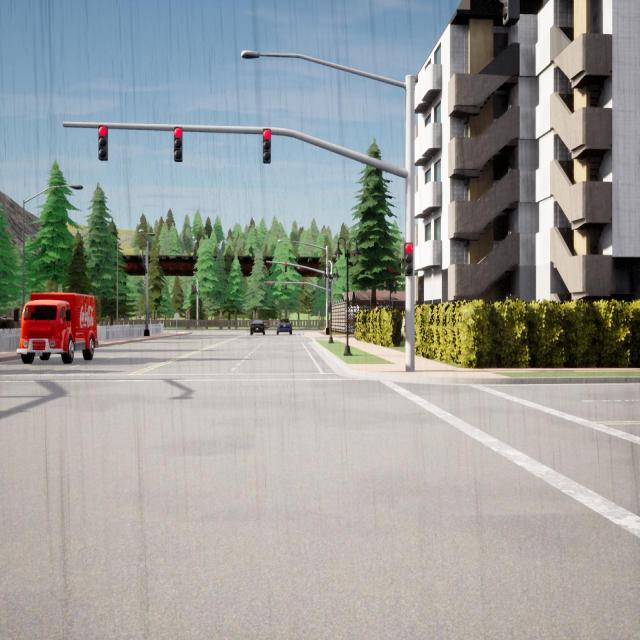Traffic_Signs: (174, 313, 180, 319)
Vehicle: (17, 293, 97, 363), (276, 318, 292, 335), (250, 319, 265, 336)
traffic_light: (502, 0, 520, 28), (98, 124, 108, 160), (174, 127, 183, 162), (404, 242, 413, 276), (263, 128, 271, 164), (270, 282, 273, 290), (285, 262, 287, 272), (284, 282, 286, 290), (302, 282, 304, 290), (198, 307, 200, 312), (192, 286, 193, 292), (194, 287, 195, 293), (196, 288, 197, 293)
